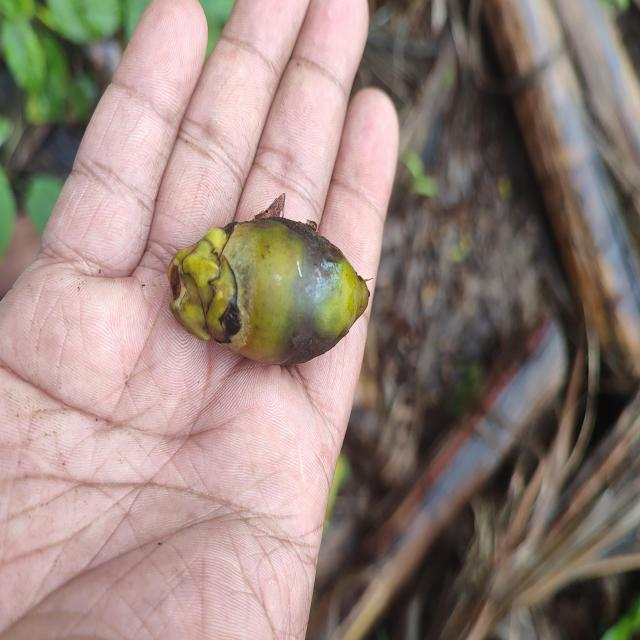damaged: (167, 215, 371, 370)
